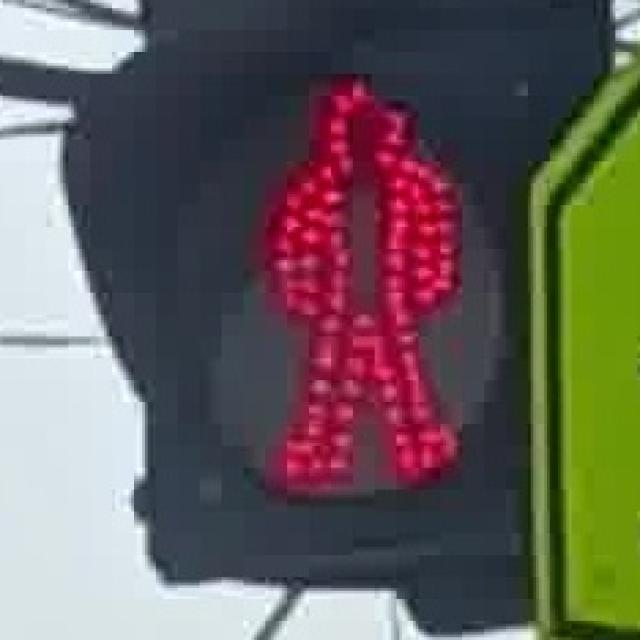red_light: (238, 55, 465, 492)
